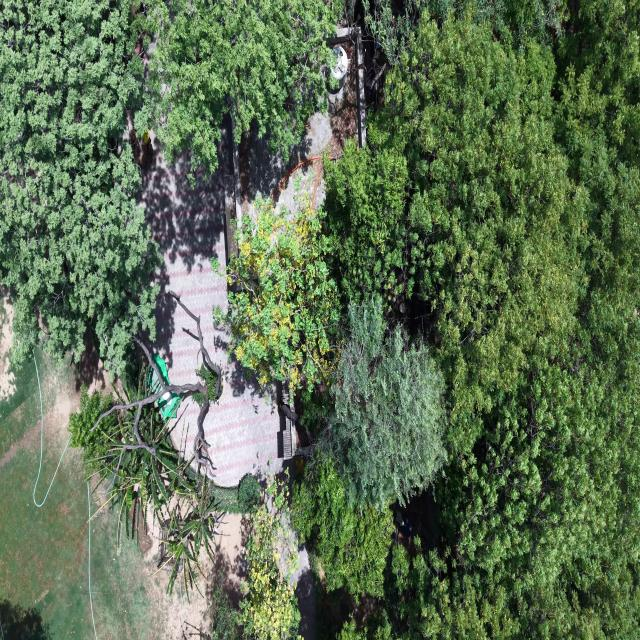DRY_AREA: (140, 139, 285, 486), (140, 153, 282, 486), (141, 154, 283, 485), (0, 362, 93, 639)
VEGETATION_TREE: (215, 0, 639, 639), (295, 2, 639, 638), (328, 2, 639, 638), (0, 0, 334, 589), (388, 22, 637, 637), (0, 0, 339, 374), (370, 19, 583, 450), (327, 20, 570, 366), (0, 0, 158, 373), (69, 293, 225, 593), (69, 292, 224, 593), (292, 298, 445, 602), (69, 367, 224, 592), (141, 0, 340, 175), (69, 367, 223, 592), (319, 299, 445, 509), (214, 200, 339, 389), (324, 140, 414, 307), (292, 456, 394, 596), (363, 0, 577, 64), (241, 479, 300, 639), (421, 0, 576, 48), (69, 385, 122, 467), (202, 587, 240, 639), (336, 612, 394, 639), (238, 474, 261, 512)
